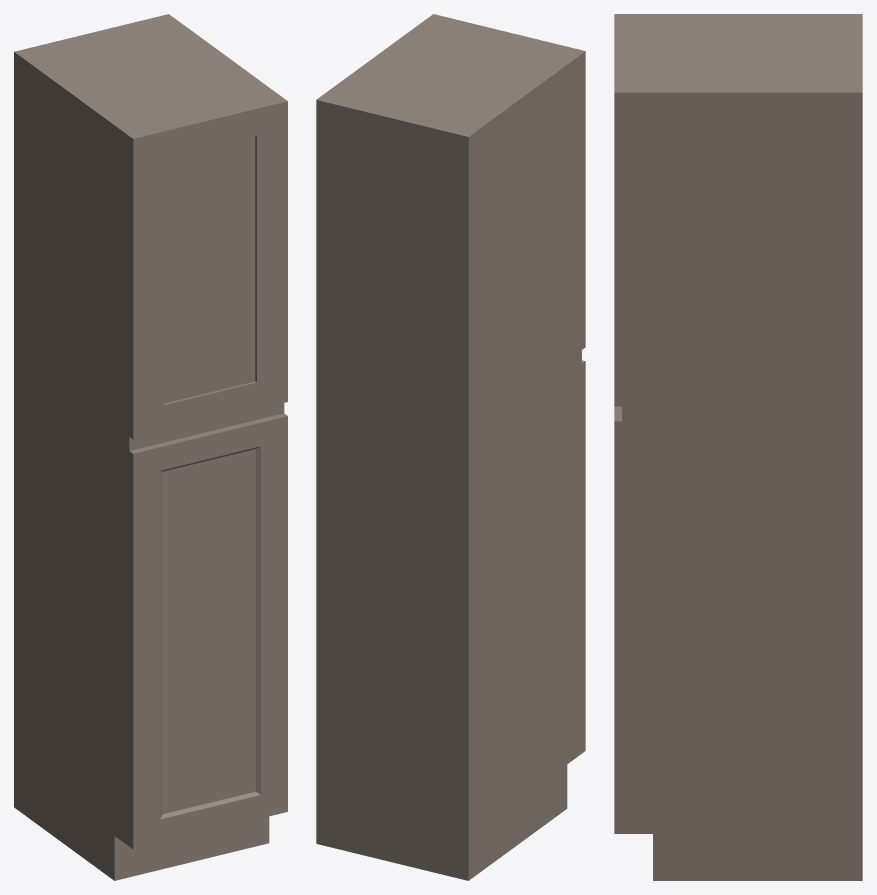
File: Utility-Cabinet-24-Deep_std_001_W18in_1D.glb
3 renders of one model, left to right at view 1: azimuth 30°, elevation 25°; view 2: azimuth 150°, elevation 25°; view 3: azimuth 270°, elevation 25°, orthographic. The views are drawn at different scales.
Visible parts, largest first — view 1: Utility-Cabinet-24-Deep.std.001_W18in_1D; view 2: Utility-Cabinet-24-Deep.std.001_W18in_1D; view 3: Utility-Cabinet-24-Deep.std.001_W18in_1D.
Boxes of the visible parts, <box> form: Utility-Cabinet-24-Deep.std.001_W18in_1D: <box>14,14,287,880</box>; Utility-Cabinet-24-Deep.std.001_W18in_1D: <box>316,14,585,880</box>; Utility-Cabinet-24-Deep.std.001_W18in_1D: <box>614,14,862,880</box>.
Size of the model in its own units: 0.4572 by 2.13 by 0.6096.
